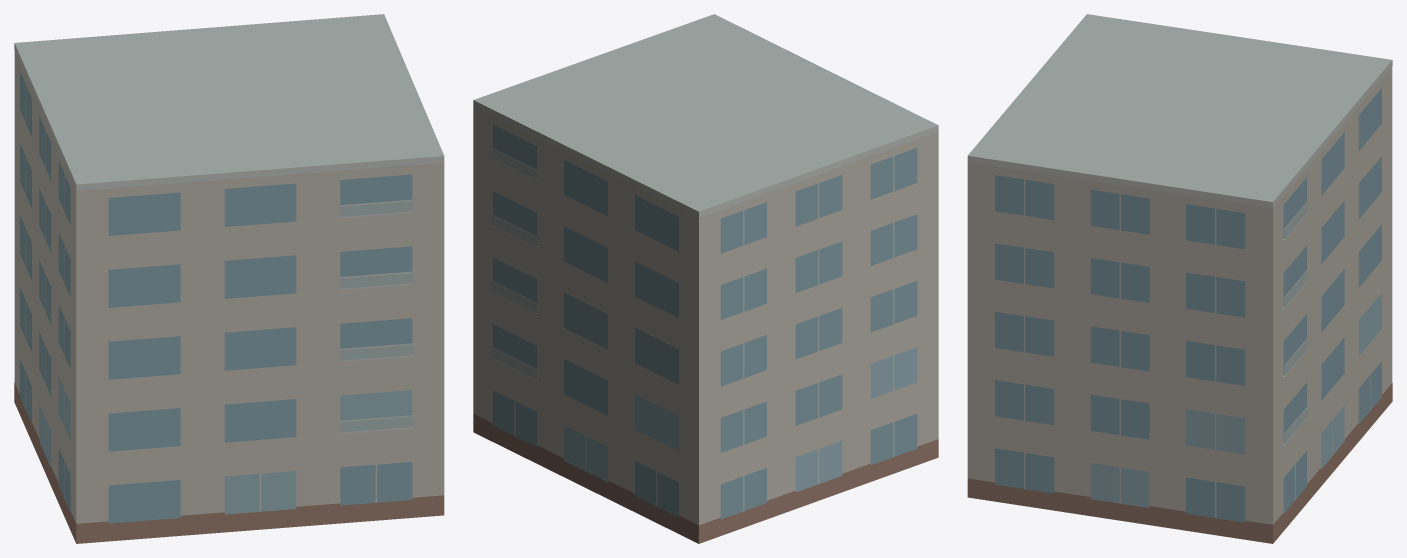
Rendered from survey-upis-32851870.glb.
3 renders of one model, left to right at view 1: azimuth 30°, elevation 25°; view 2: azimuth 150°, elevation 25°; view 3: azimuth 270°, elevation 25°, orthographic. The views are drawn at different scales.
Parts seen in each view (by area): view 1: survey-upis-32851870.tmp; view 2: survey-upis-32851870.tmp; view 3: survey-upis-32851870.tmp.
Part boxes in pixels (x1,y1,x2,y2): survey-upis-32851870.tmp: [14, 14, 444, 543]; survey-upis-32851870.tmp: [473, 14, 938, 543]; survey-upis-32851870.tmp: [967, 14, 1392, 543].
Size of the model in its own units: 15.72 by 13.3 by 15.
